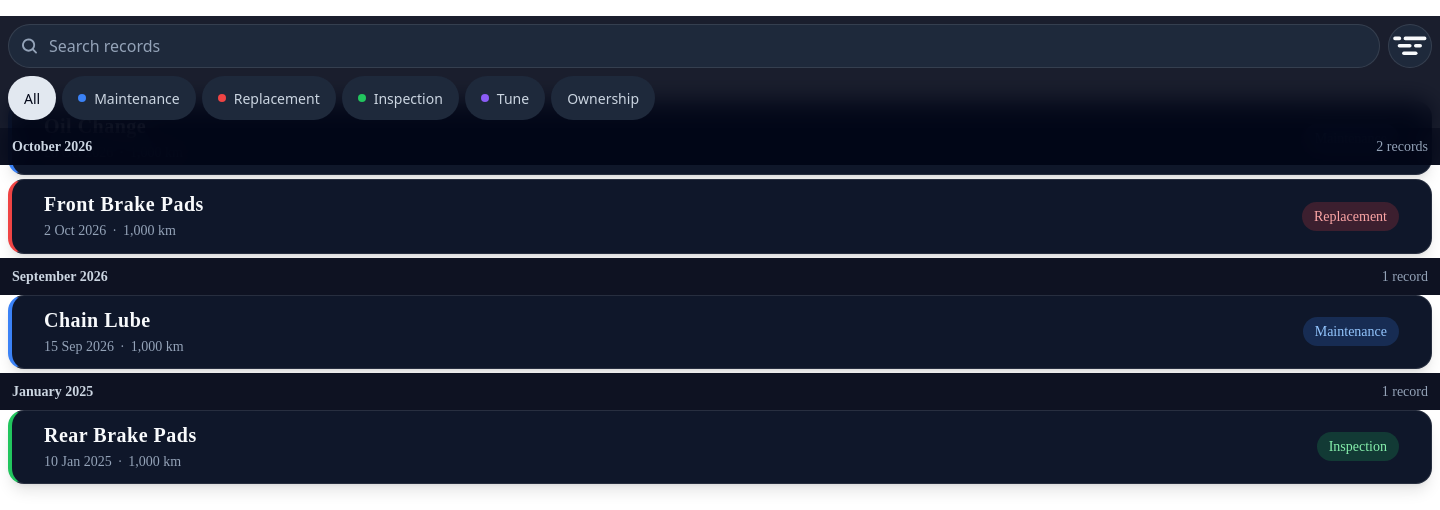
Test case: no matches shows a message and a way to clear the search
Type "turbo" into the search field.
click(694, 46); type("turbo")  # box [8,24,1380,68]
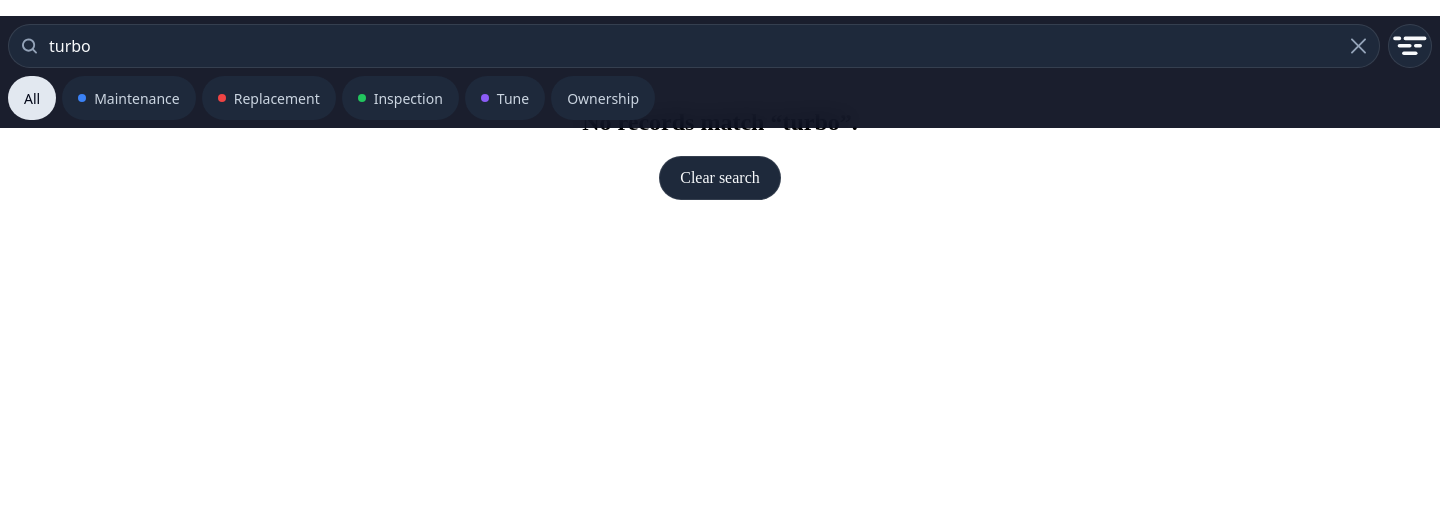
Expected: the heading "No records match “turbo”." is shown, [582,109,858,135]
Click the button named "Clear search".
click(1358, 46)  # box [1336,24,1380,68]
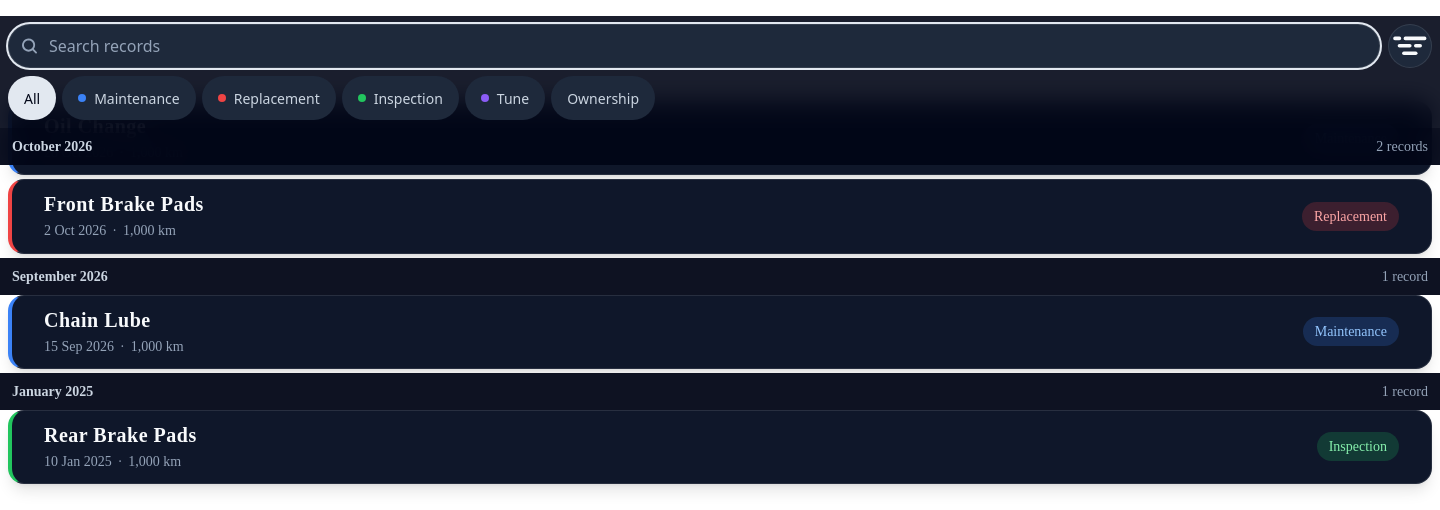
Expected: the search field is empty, [8,24,1380,68]
